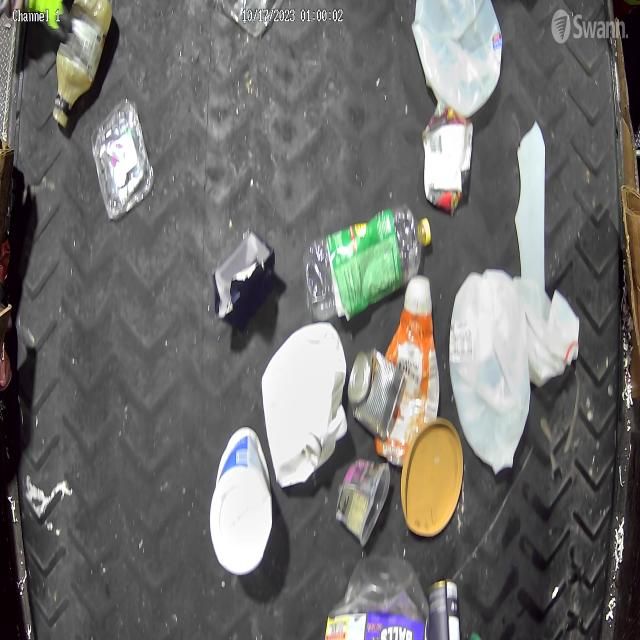can: (349, 348, 403, 434)
milk_jug: (448, 267, 530, 476), (261, 323, 348, 487), (413, 1, 502, 118), (512, 276, 580, 388)
plastic_bottle: (304, 205, 432, 322)
